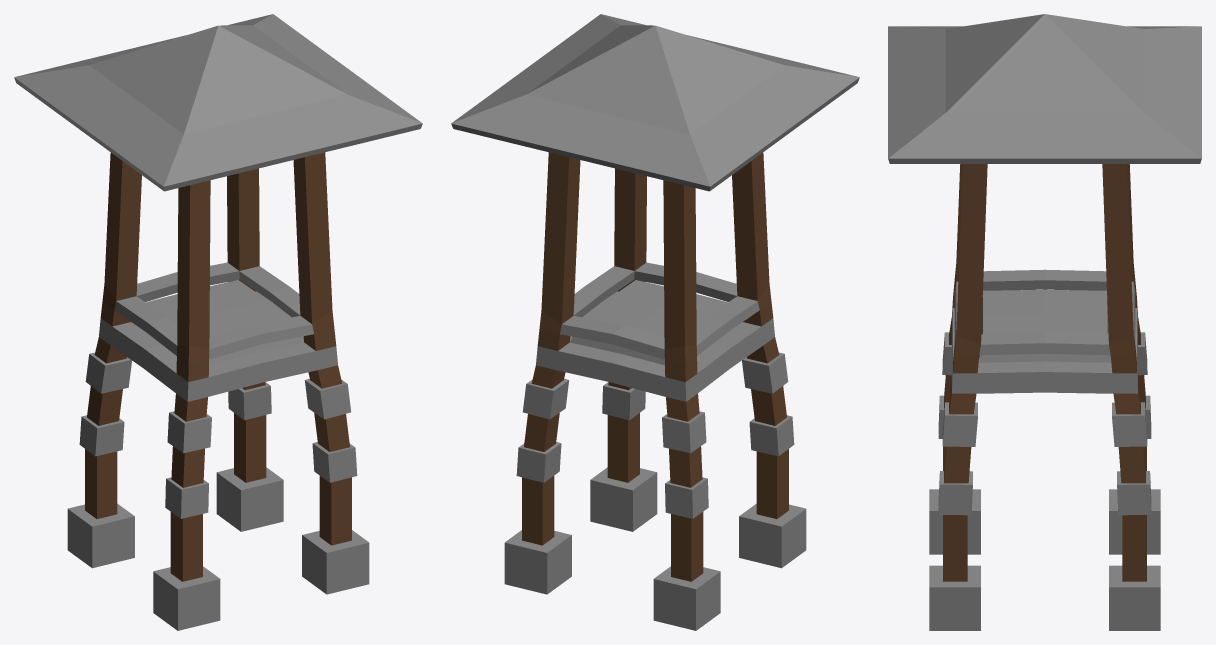
Rendered from ArcherTower2.fbx.
3 views of the same model, side by side, from view 1: azimuth 30°, elevation 25°; view 2: azimuth 150°, elevation 25°; view 3: azimuth 270°, elevation 25° (orthographic). The views are drawn at different scales.
Visible parts, largest first — view 1: Tower2; view 2: Tower2; view 3: Tower2.
Boxes of the visible parts, x1,y1,x2,y2 form: Tower2: [14, 14, 422, 630]; Tower2: [451, 14, 859, 630]; Tower2: [888, 14, 1201, 630].
Size of the model in its own units: 2.25 by 4.5 by 2.25.
